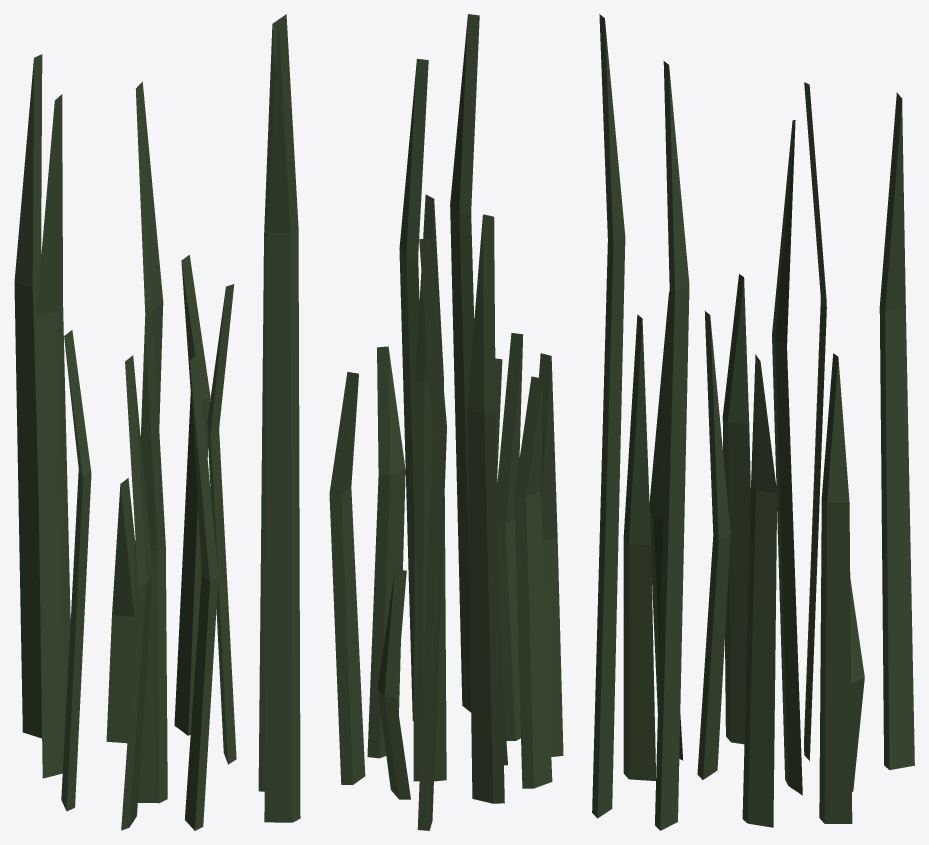
Rendered from Grass_2.glb.
3 renders of one model, left to right at view 1: azimuth 30°, elevation 25°; view 2: azimuth 150°, elevation 25°; view 3: azimuth 270°, elevation 25°, orthographic. The views are drawn at different scales.
Bounding box in the file's own units: 0.3162 × 1.2 × 0.4417.
